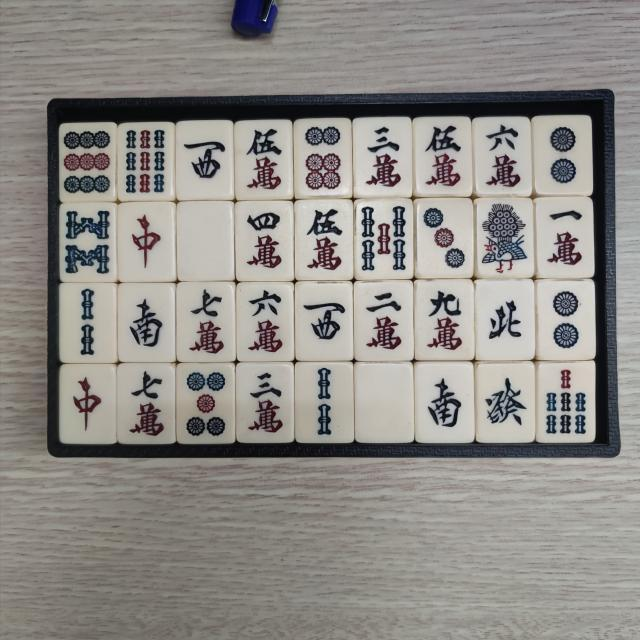hdg: (482, 368, 530, 439)
hdr: (65, 368, 109, 438), (124, 206, 168, 276)
hdw: (359, 366, 406, 436), (184, 206, 230, 275)
hwn: (482, 288, 529, 358)
hws: (422, 368, 469, 437), (124, 289, 170, 357)
hww: (181, 127, 230, 195), (300, 287, 348, 356)
sb1: (480, 203, 530, 276)
sb2: (301, 364, 348, 439), (66, 285, 114, 358)
sb5: (357, 201, 408, 273)
sb7: (542, 366, 590, 438)
sb8: (62, 208, 111, 278)
sb9: (122, 128, 168, 198)
sc1: (542, 204, 588, 274)
sc2: (357, 288, 407, 358)
sc3: (359, 121, 406, 192), (244, 367, 288, 437)
sc4: (242, 204, 288, 274)
sc5: (419, 120, 468, 192), (300, 204, 348, 276), (239, 126, 287, 196)
sc6: (478, 122, 526, 191), (244, 287, 289, 358)
sc7: (183, 286, 230, 358), (122, 367, 168, 439)
sc9: (420, 286, 470, 357)
sd2: (540, 120, 588, 190), (544, 286, 590, 356)
sd3: (419, 201, 467, 272)
sd5: (182, 369, 230, 441)
sd6: (300, 122, 346, 192)
sd9: (62, 130, 112, 200)
